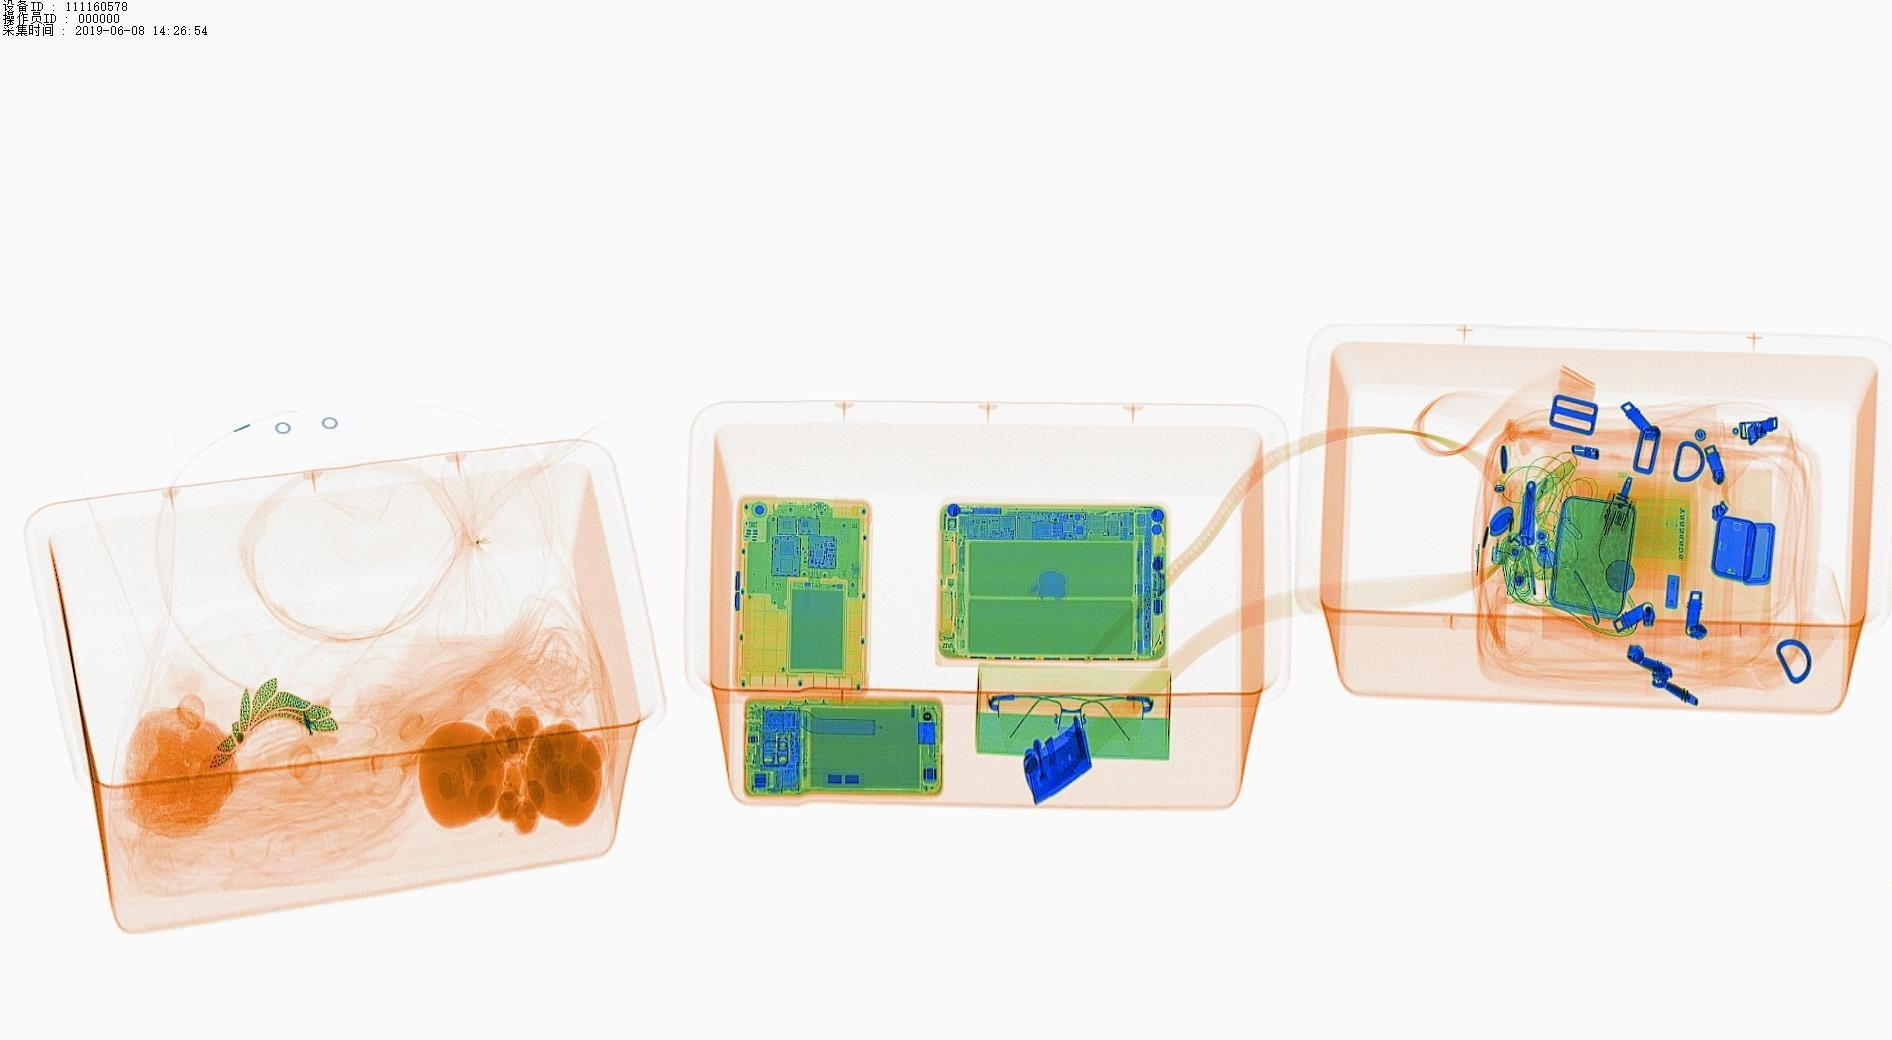NonmetallicFire: (1481, 471, 1527, 578)
